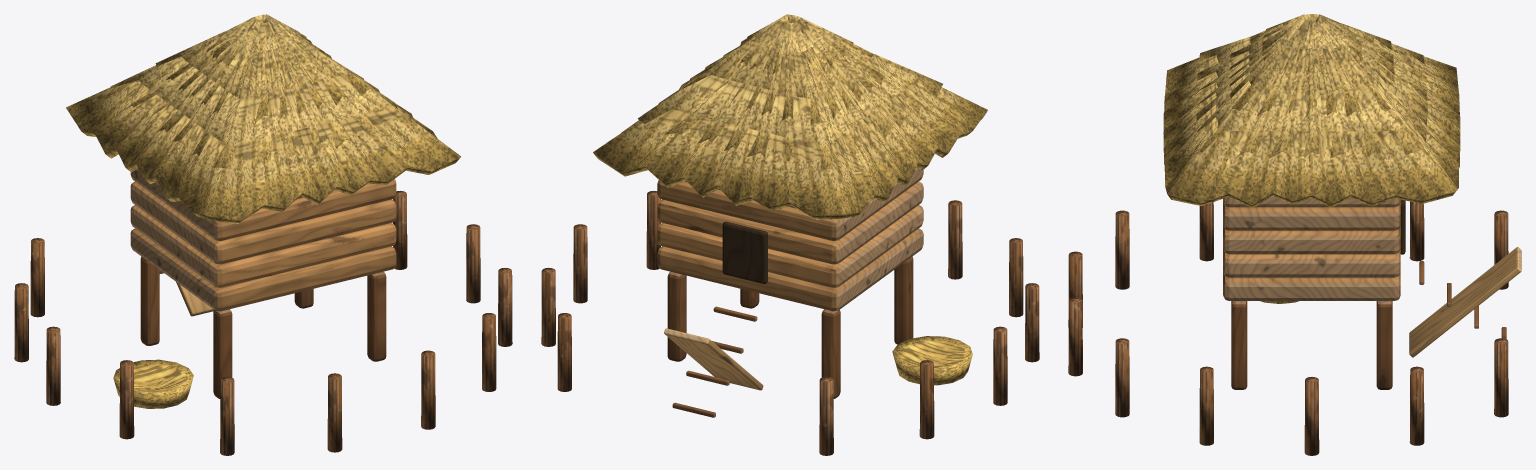
The model's file is coop.glb.
The picture shows the model from 3 angles, left to right: view 1: azimuth 30°, elevation 25°; view 2: azimuth 150°, elevation 25°; view 3: azimuth 270°, elevation 25°; orthographic projection.
Parts seen in each view (by area): view 1: Coop; view 2: Coop; view 3: Coop.
Boxes of the visible parts, x1,y1,x2,y2 form: Coop: (14,14,512,455); Coop: (541,14,1039,455); Coop: (1068,14,1521,455).
Size of the model in its own units: 3.09 by 2.28 by 2.8.
1 material, 1 textured.
